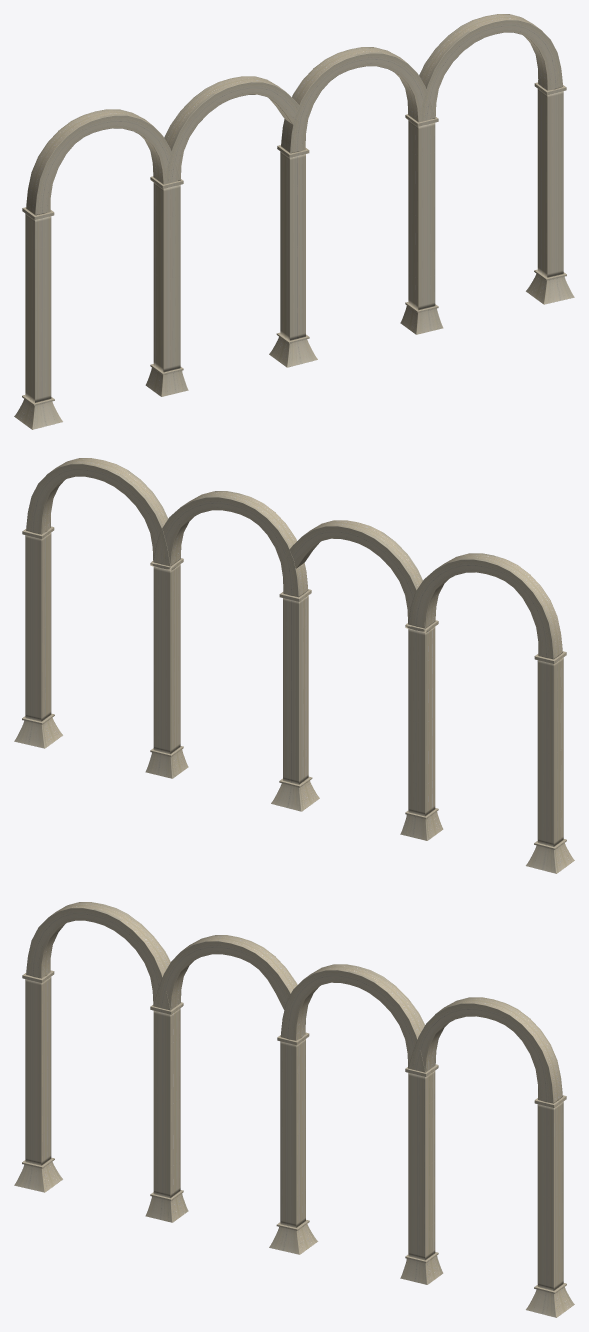
File: Iglesia-Arco.fbx
3 views of the same model, one above another, from view 1: azimuth 30°, elevation 25°; view 2: azimuth 150°, elevation 25°; view 3: azimuth 330°, elevation 25° (orthographic).
Visible parts, largest first — view 1: Plane.001; view 2: Plane.001; view 3: Plane.001.
Part boxes in pixels (x1,y1,x2,y2): Plane.001: [14, 14, 574, 429]; Plane.001: [14, 458, 574, 873]; Plane.001: [14, 902, 574, 1317].
Size of the model in its own units: 11.23 by 5.74 by 0.657.
